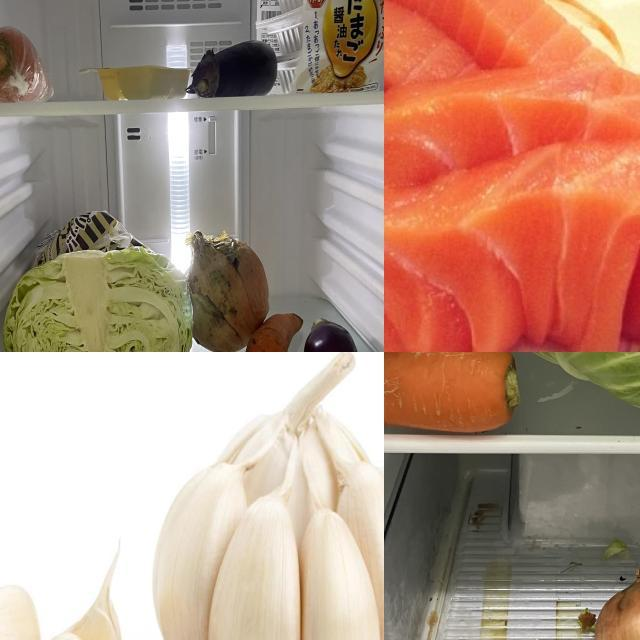cabbage: (6, 251, 197, 353)
carrot: (385, 353, 523, 433), (1, 26, 60, 102), (246, 312, 303, 353)
eggplant: (190, 39, 279, 96), (304, 319, 364, 353)
garlic: (147, 353, 385, 640), (1, 556, 152, 640)
onion: (185, 231, 271, 353), (595, 555, 640, 640)
